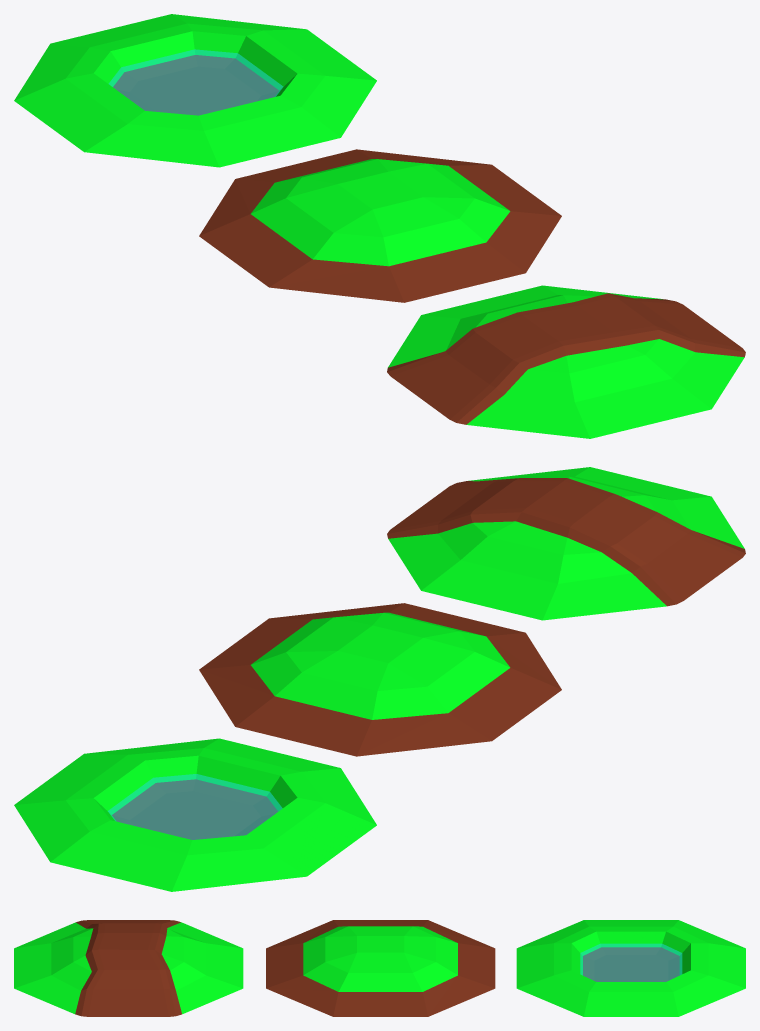
Rendered from Grounds.fbx.
The picture shows the model from 3 angles, top to bottom: view 1: azimuth 30°, elevation 25°; view 2: azimuth 150°, elevation 25°; view 3: azimuth 270°, elevation 25°; orthographic projection. The views are drawn at different scales.
Parts seen in each view (by area): view 1: Ground3, Ground2, Ground1, Top, Path, Water001, Water; view 2: Ground3, Ground2, Ground1, Top, Path, Water001, Water; view 3: Ground3, Ground2, Ground1, Top, Path, Water001, Water.
Boxes of the visible parts, x1=… form: Ground3: x1=14, y1=14, x2=376, y2=167; Ground2: x1=388, y1=285, x2=744, y2=438; Ground1: x1=199, y1=149, x2=561, y2=302; Top: x1=251, y1=159, x2=510, y2=266; Path: x1=387, y1=293, x2=745, y2=424; Water001: x1=109, y1=49, x2=283, y2=115; Water: x1=113, y1=55, x2=278, y2=115; Ground3: x1=14, y1=738, x2=376, y2=891; Ground2: x1=388, y1=467, x2=744, y2=620; Ground1: x1=199, y1=603, x2=561, y2=756; Top: x1=251, y1=612, x2=510, y2=719; Path: x1=387, y1=478, x2=745, y2=606; Water001: x1=108, y1=774, x2=282, y2=839; Water: x1=112, y1=779, x2=277, y2=839; Ground3: x1=516, y1=920, x2=745, y2=1016; Ground2: x1=14, y1=922, x2=243, y2=1013; Ground1: x1=266, y1=920, x2=495, y2=1016; Top: x1=303, y1=926, x2=457, y2=991; Path: x1=75, y1=920, x2=181, y2=1016; Water001: x1=580, y1=943, x2=682, y2=981; Water: x1=583, y1=947, x2=679, y2=981.
Size of the model in its own units: 51.08 by 7.19 by 163.
